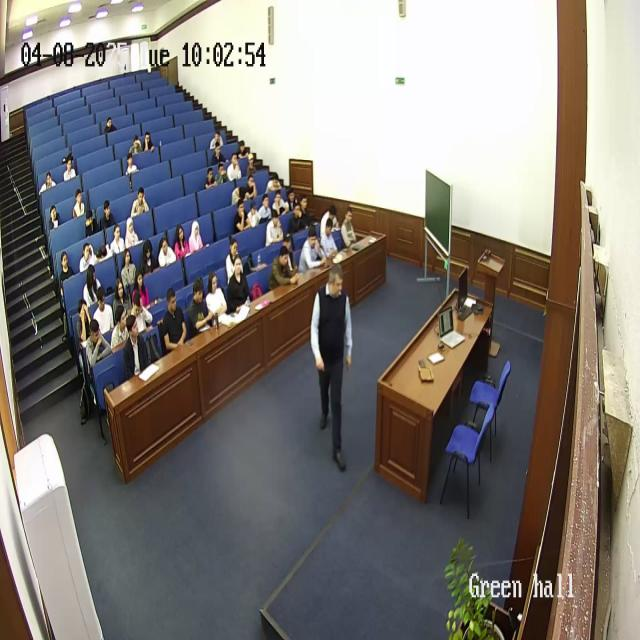person: (309, 265, 353, 470), (84, 318, 112, 425), (161, 287, 189, 356), (123, 314, 151, 382), (187, 277, 215, 339), (226, 253, 252, 312), (204, 268, 228, 326), (130, 266, 154, 322), (270, 243, 299, 289), (91, 287, 115, 340), (298, 228, 325, 274), (74, 299, 94, 350), (110, 305, 130, 353), (82, 262, 102, 310), (224, 237, 244, 284), (56, 249, 74, 301), (112, 279, 131, 328), (319, 213, 339, 259), (119, 247, 137, 290), (158, 232, 178, 268), (266, 207, 284, 247), (140, 238, 158, 276), (288, 199, 306, 237), (123, 213, 141, 251), (108, 222, 126, 260), (233, 197, 251, 234), (98, 198, 116, 235), (341, 209, 358, 247), (173, 222, 190, 260), (130, 184, 149, 218), (257, 192, 275, 226), (78, 241, 96, 274), (187, 219, 203, 254), (83, 205, 99, 239), (272, 189, 290, 217), (95, 236, 110, 266), (72, 186, 86, 218), (124, 150, 140, 178), (227, 152, 242, 181), (242, 173, 258, 200), (243, 150, 257, 180), (62, 156, 78, 182), (267, 167, 281, 196), (320, 200, 335, 227), (229, 182, 248, 203), (40, 170, 56, 193), (47, 204, 61, 230), (204, 164, 218, 190), (141, 129, 155, 154), (210, 127, 223, 152), (130, 134, 144, 156), (105, 116, 117, 136), (287, 178, 298, 198)
